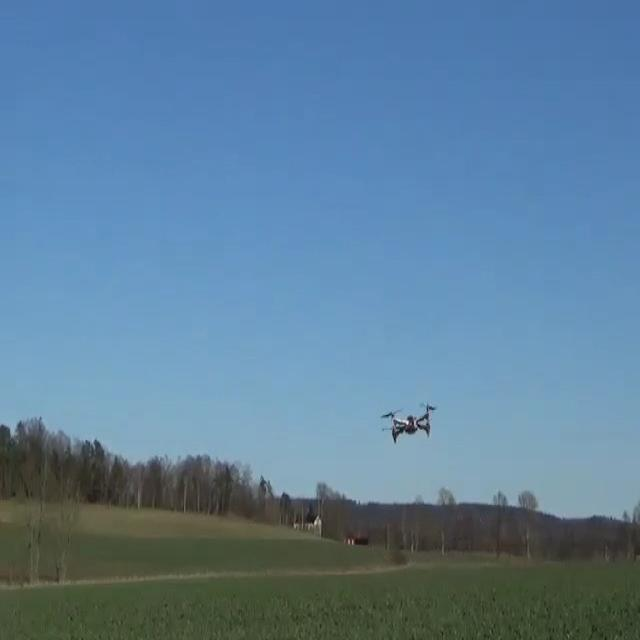drone: (382, 402, 439, 446)
